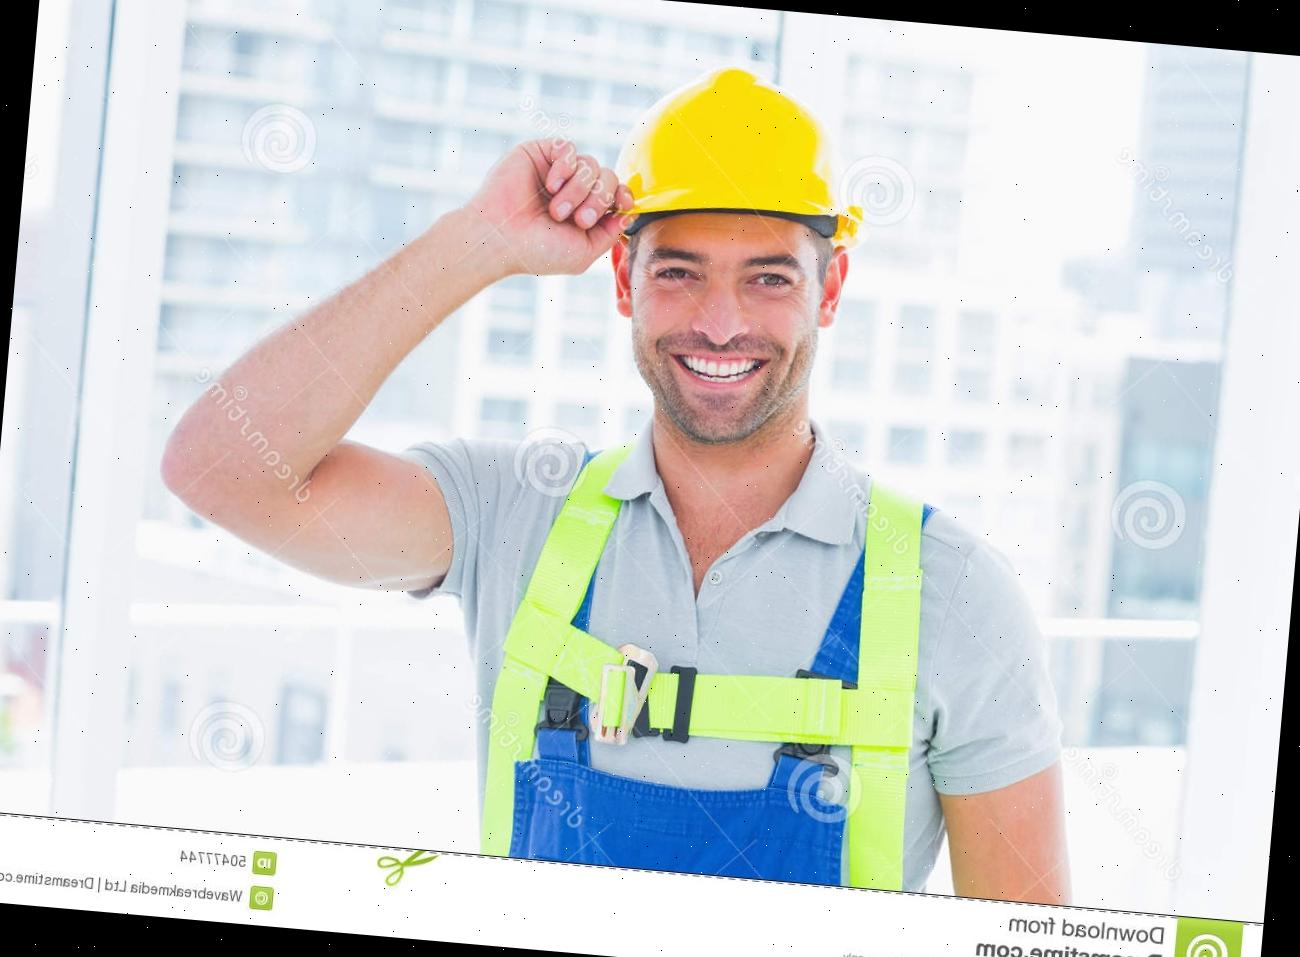helmet: (602, 57, 881, 256)
no_wear: (377, 446, 1021, 895)
